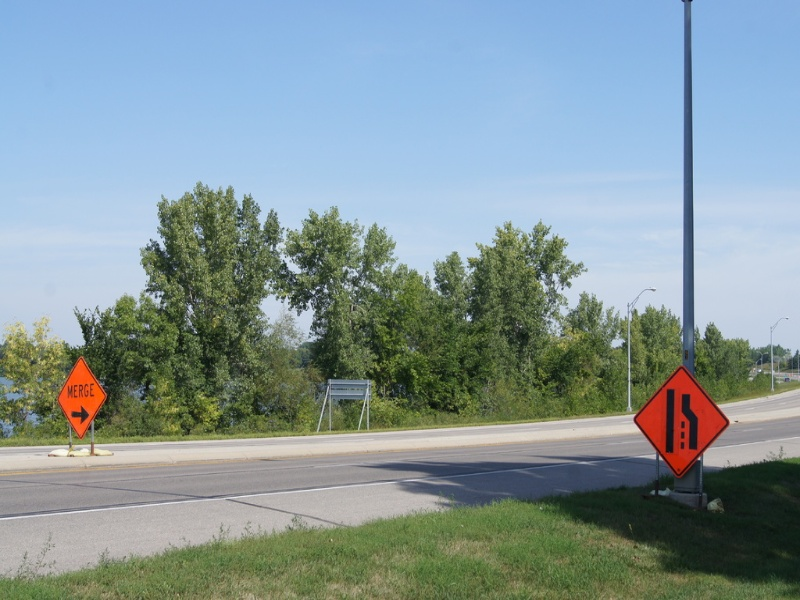narrow_road_ahead: (630, 363, 738, 480)
